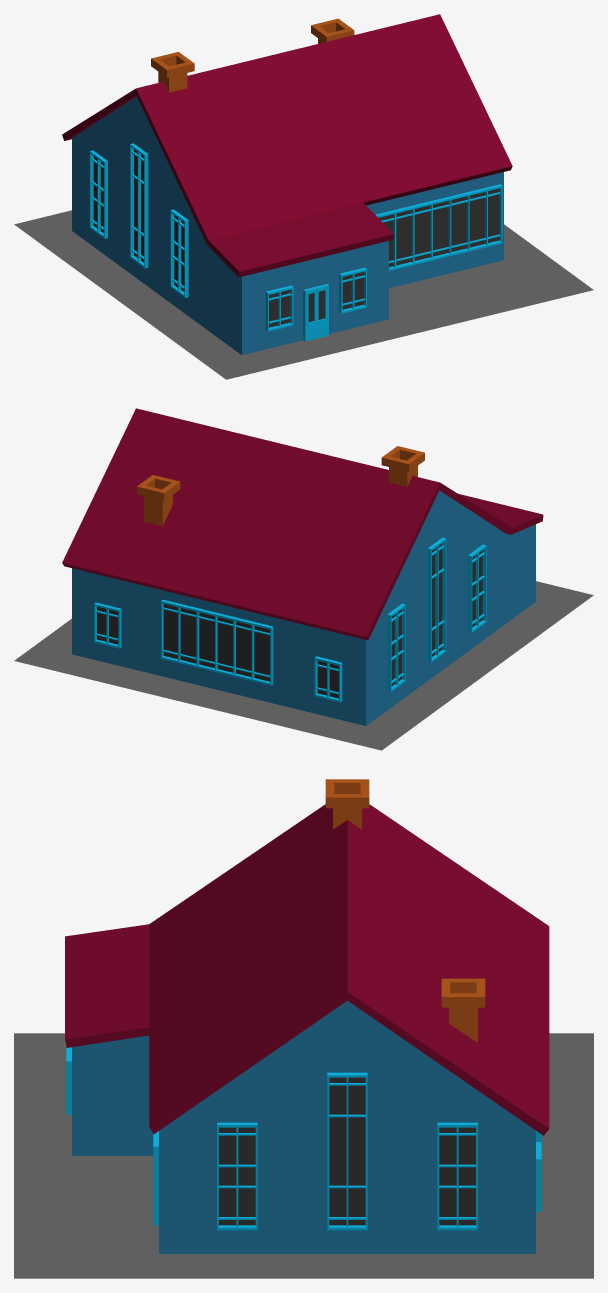
Rendered from house_07.fbx.
3 renders of one model, top to bottom at view 1: azimuth 30°, elevation 25°; view 2: azimuth 150°, elevation 25°; view 3: azimuth 270°, elevation 25°, orthographic. The views are drawn at different scales.
Parts seen in each view (by area): view 1: house_07; view 2: house_07; view 3: house_07.
Part boxes in pixels (<box>): house_07: <box>14,14,593,379</box>; house_07: <box>14,408,593,750</box>; house_07: <box>14,779,593,1278</box>.
Size of the model in its own units: 20 by 11.06 by 20.
